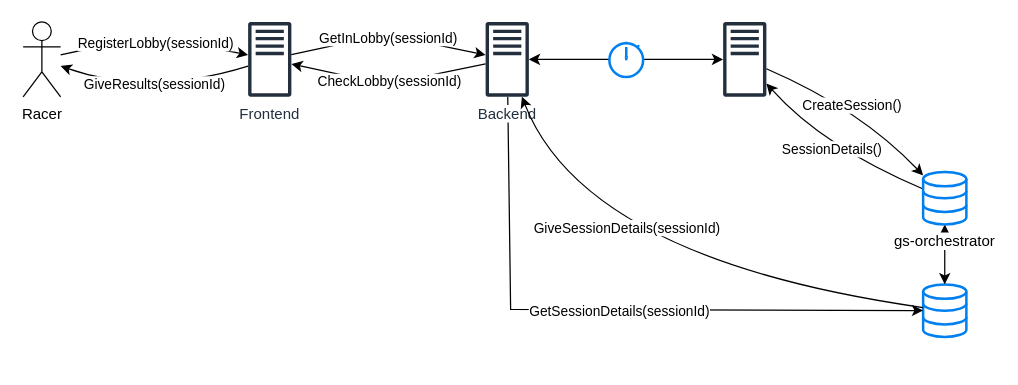
Some shapes in this 1018 by 385 pixel diagram are drawn without their labels. Here are the shapes that lost their labels. From the top down, the centre of each, then its label:
At pixel 744 58: "Orchestrator".
At pixel 944 310: "gamescheduler".
